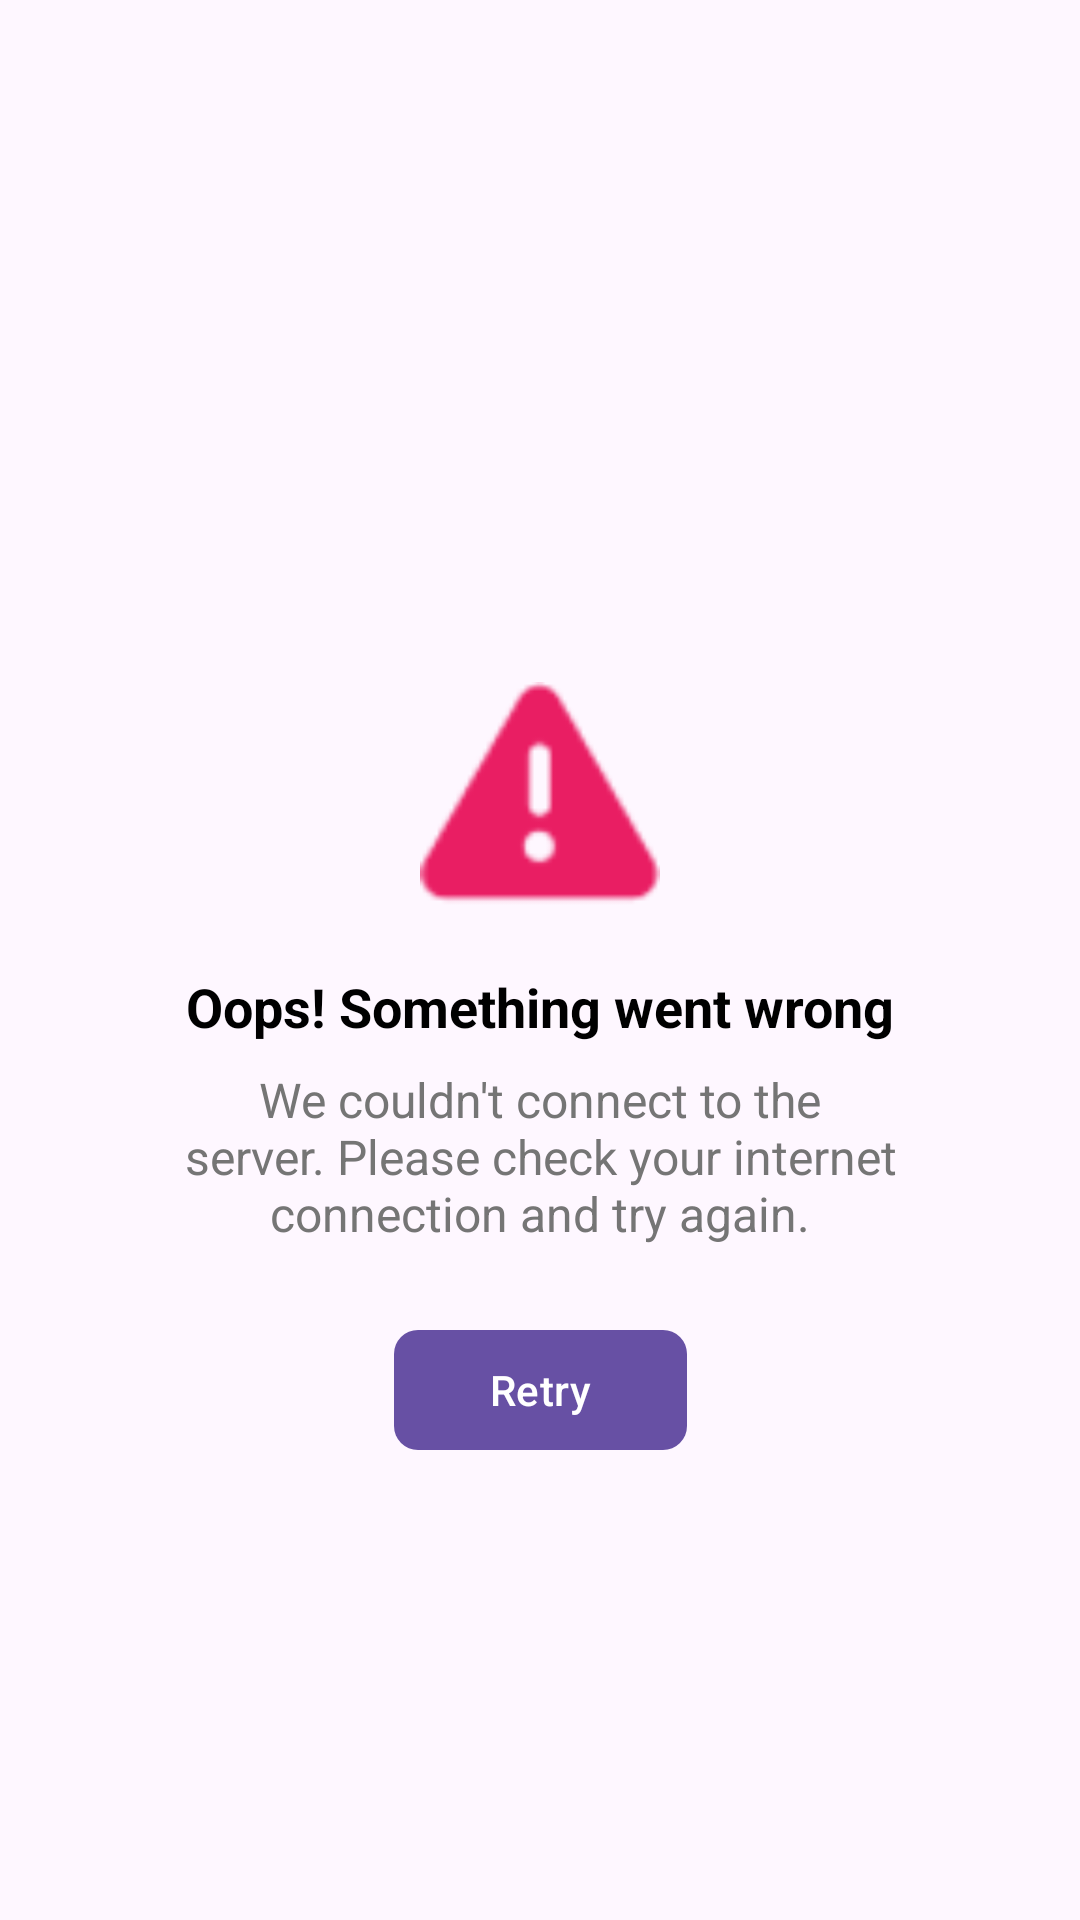

Point at icon controls on the screen. Image size 1080px x 1920px, points as (x=x, y=y).
alert: (x=540, y=791)
